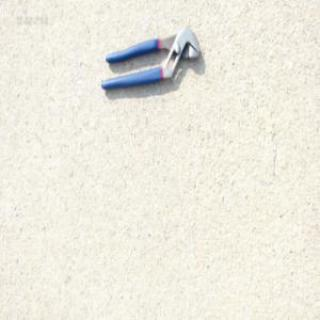Pliertrack_idkeyframe: (99, 26, 201, 91)
